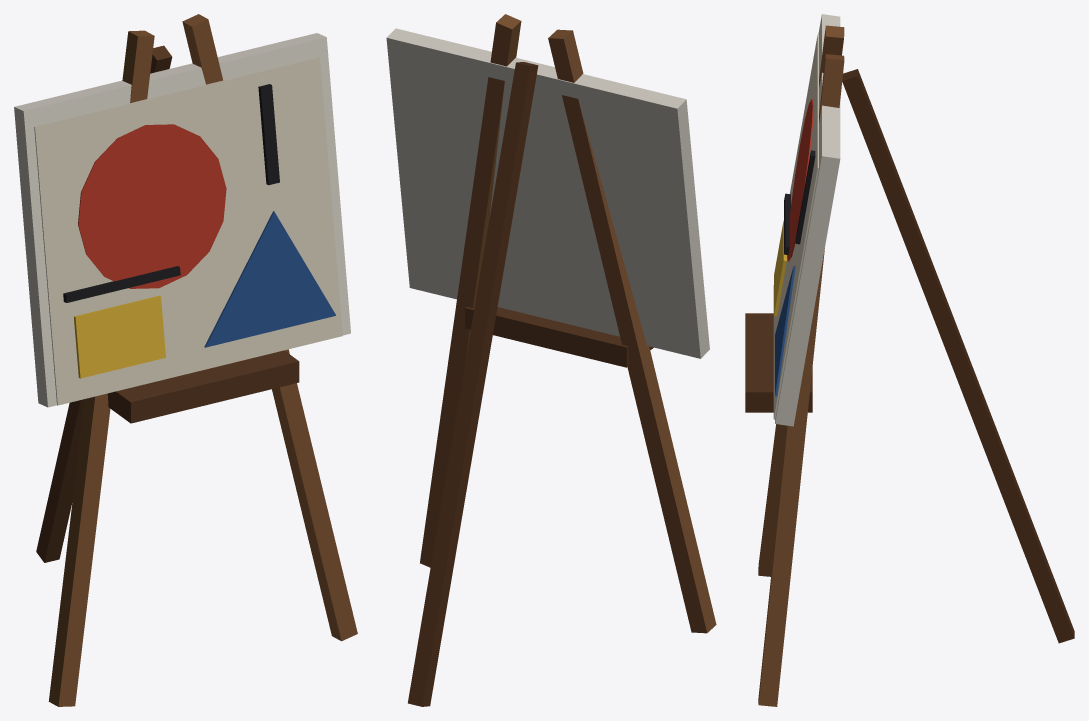
Rendered from c-easel-abstract.glb.
3 renders of one model, left to right at view 1: azimuth 30°, elevation 25°; view 2: azimuth 150°, elevation 25°; view 3: azimuth 270°, elevation 25°, orthographic. The views are drawn at different scales.
Visible parts, largest first — view 1: c-easel-abstract; view 2: c-easel-abstract; view 3: c-easel-abstract.
Boxes of the visible parts, x1,y1,x2,y2 form: c-easel-abstract: (14,14,357,706); c-easel-abstract: (386,14,716,706); c-easel-abstract: (745,14,1074,706).
Size of the model in its own units: 0.45 by 0.8823 by 0.4406.
